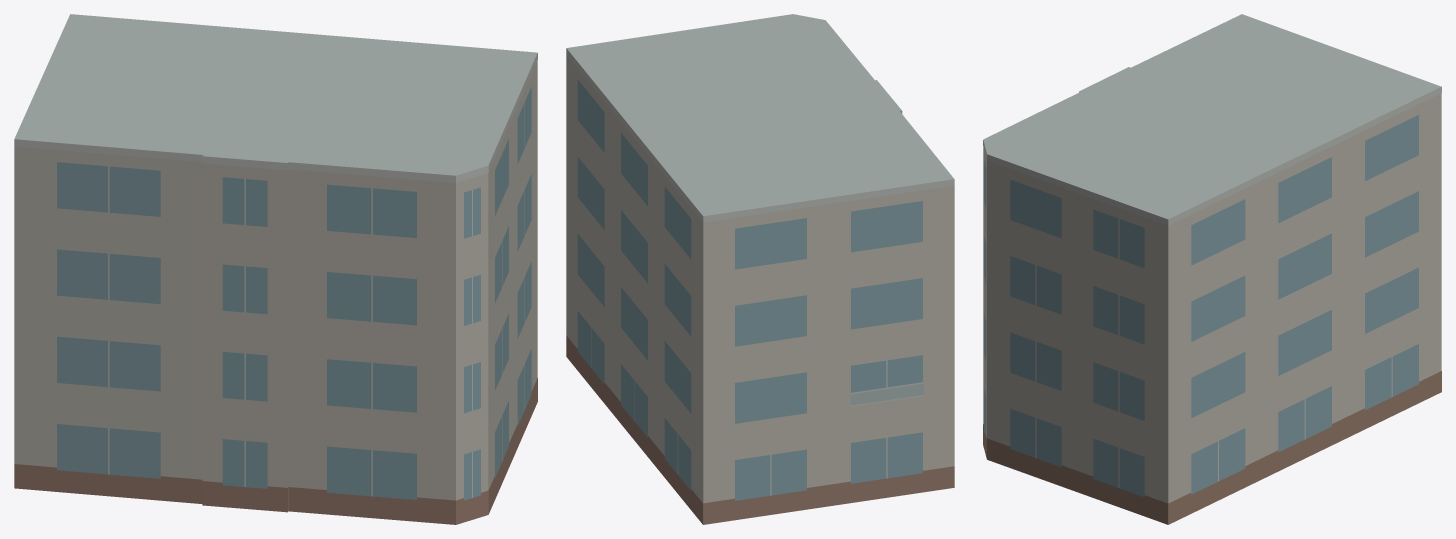
The model's file is survey-upis-32995103.glb.
3 views of the same model, side by side, from view 1: azimuth 30°, elevation 25°; view 2: azimuth 150°, elevation 25°; view 3: azimuth 270°, elevation 25° (orthographic). The views are drawn at different scales.
Visible parts, largest first — view 1: survey-upis-32995103.tmp; view 2: survey-upis-32995103.tmp; view 3: survey-upis-32995103.tmp.
Part boxes in pixels (box(x1,y1,x2,y2)): survey-upis-32995103.tmp: box(14, 14, 537, 524); survey-upis-32995103.tmp: box(566, 14, 954, 524); survey-upis-32995103.tmp: box(983, 14, 1441, 524).
Size of the model in its own units: 17.03 by 11.8 by 16.07.
